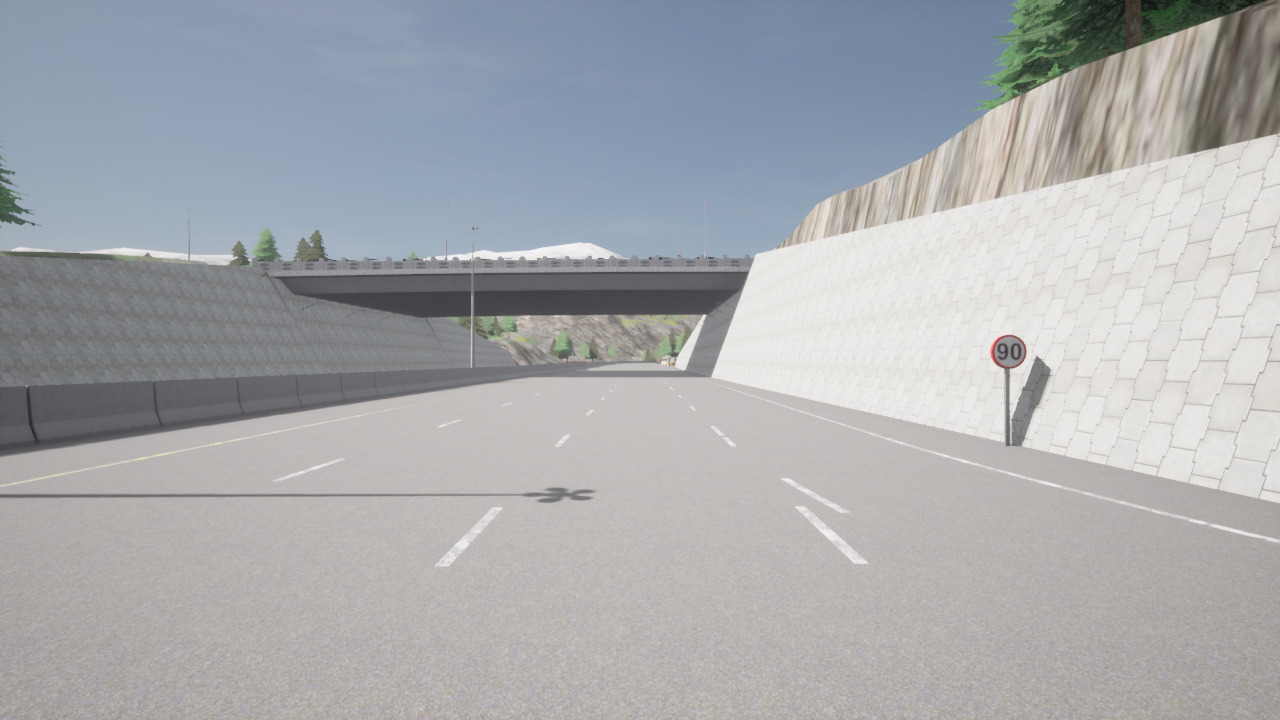sl90: (989, 333, 1029, 370)
